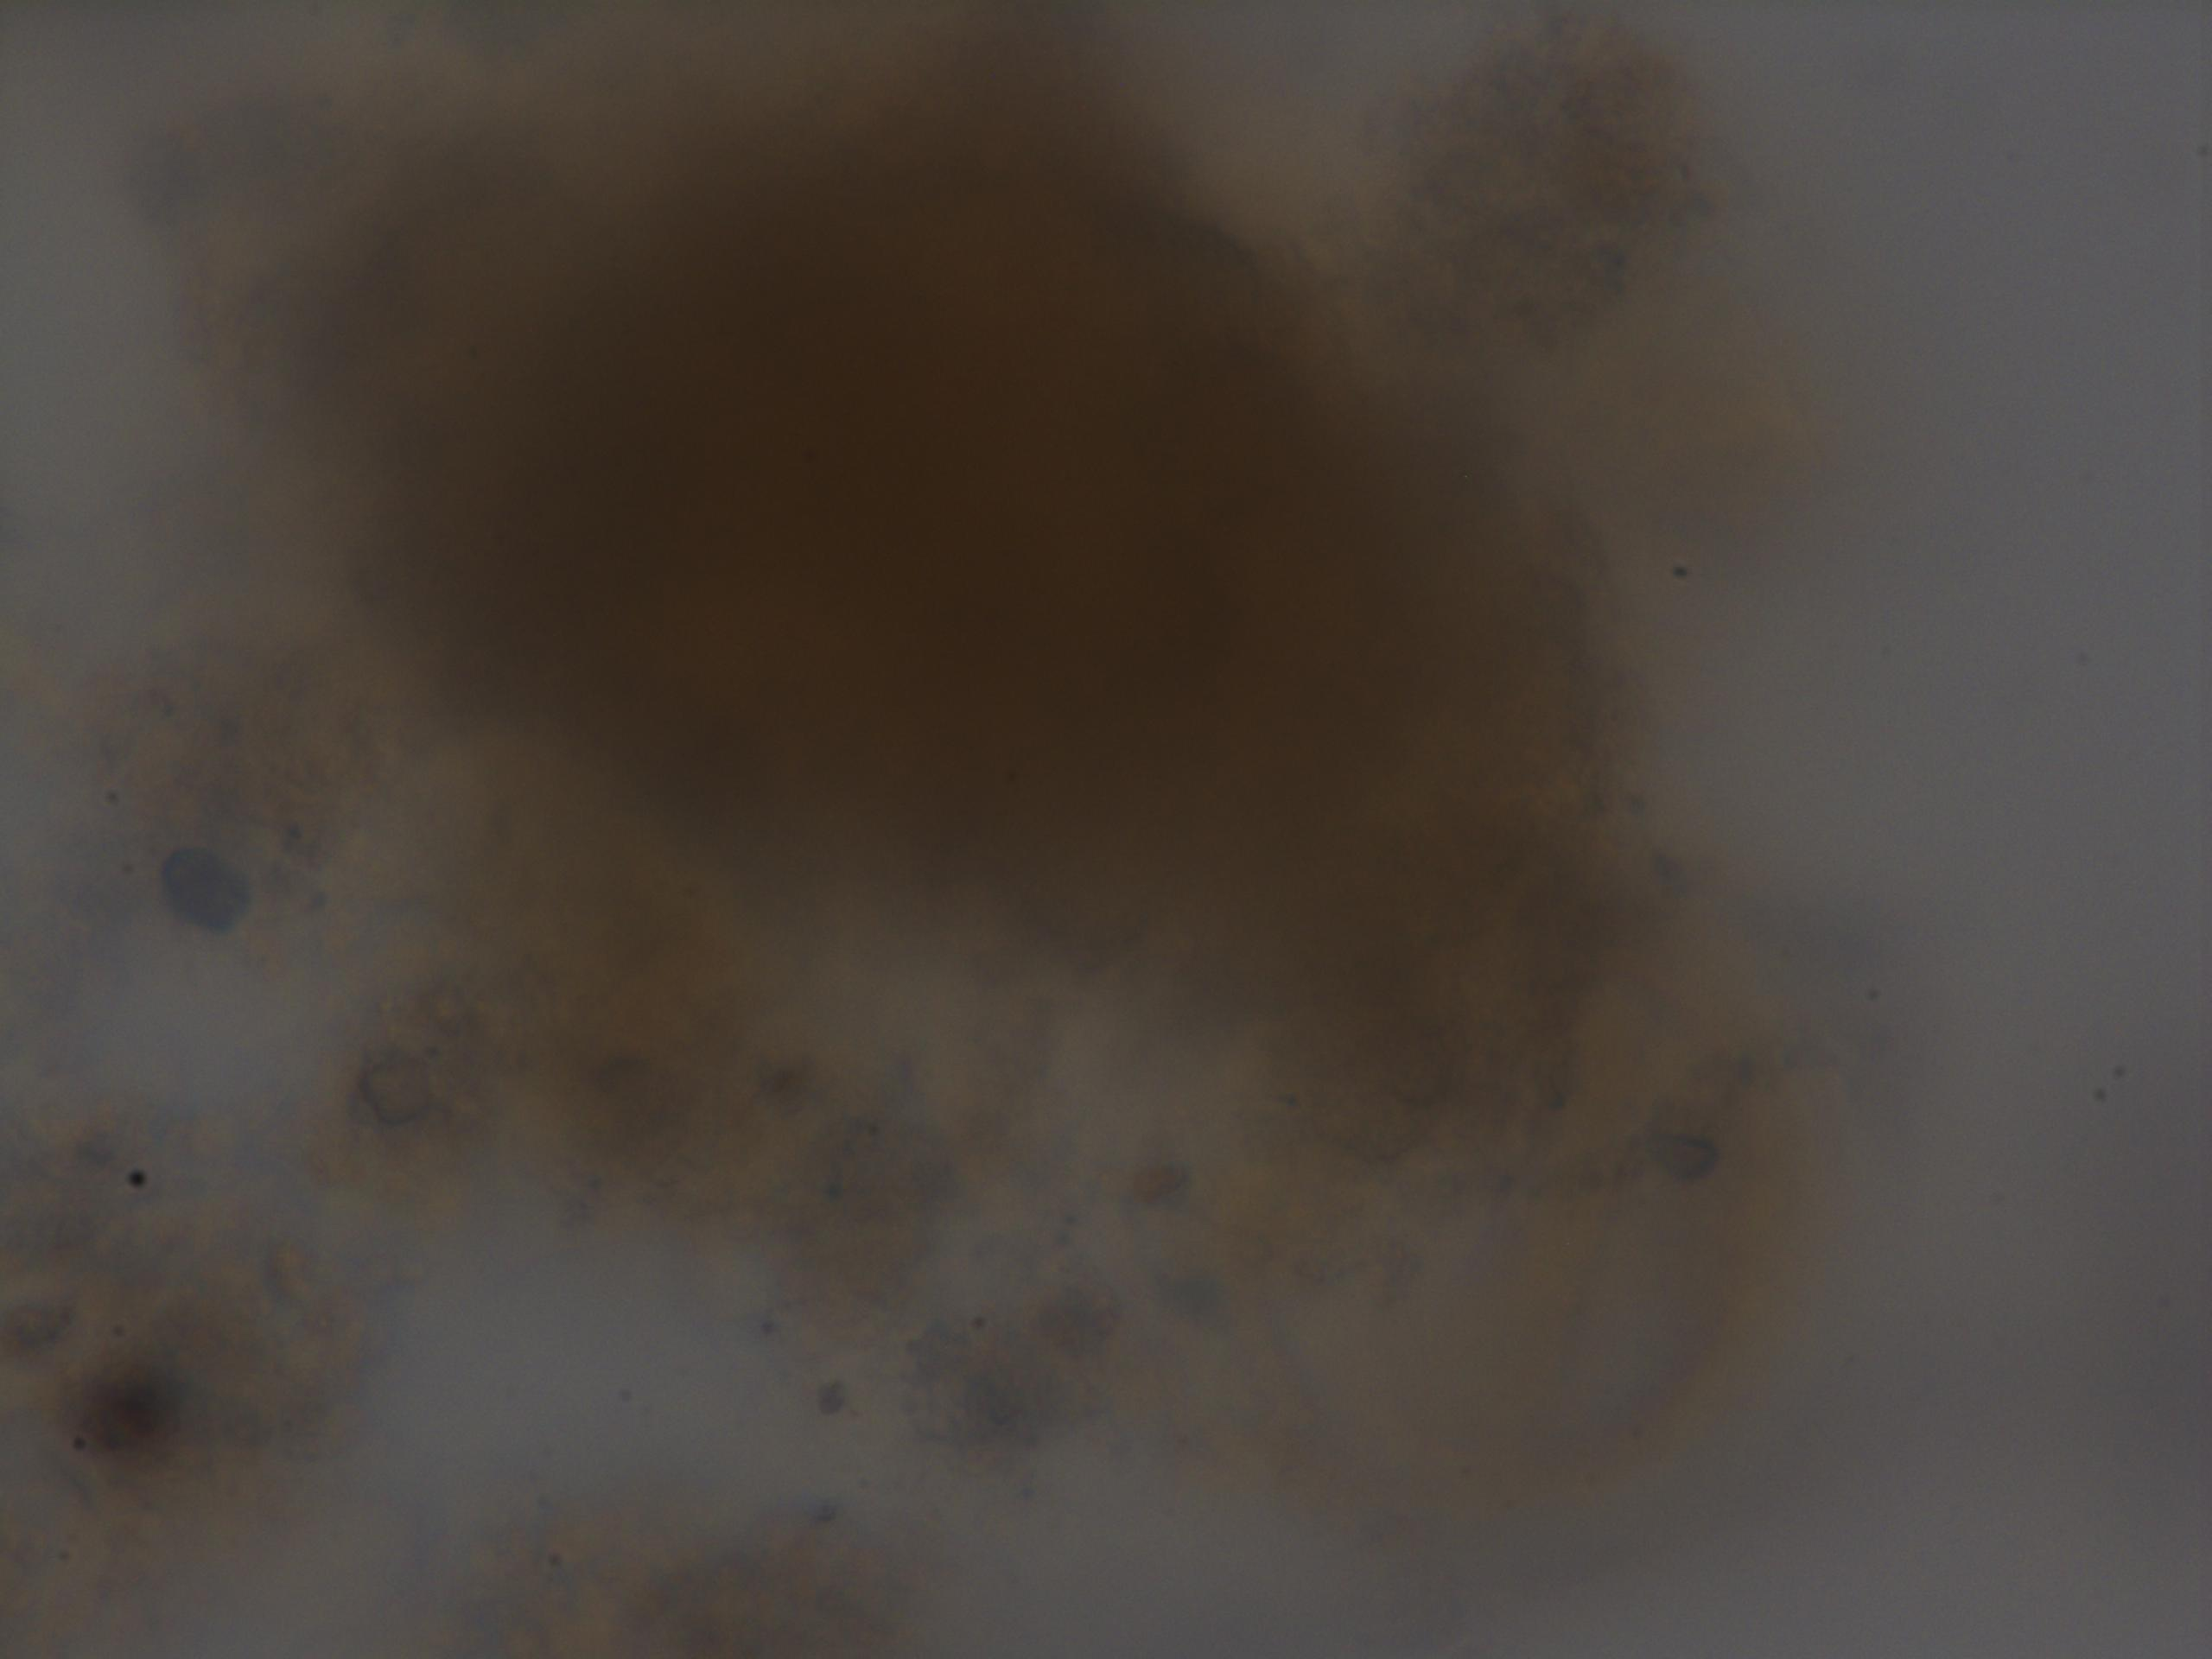spherical_floc: (347, 10, 1656, 1129)
